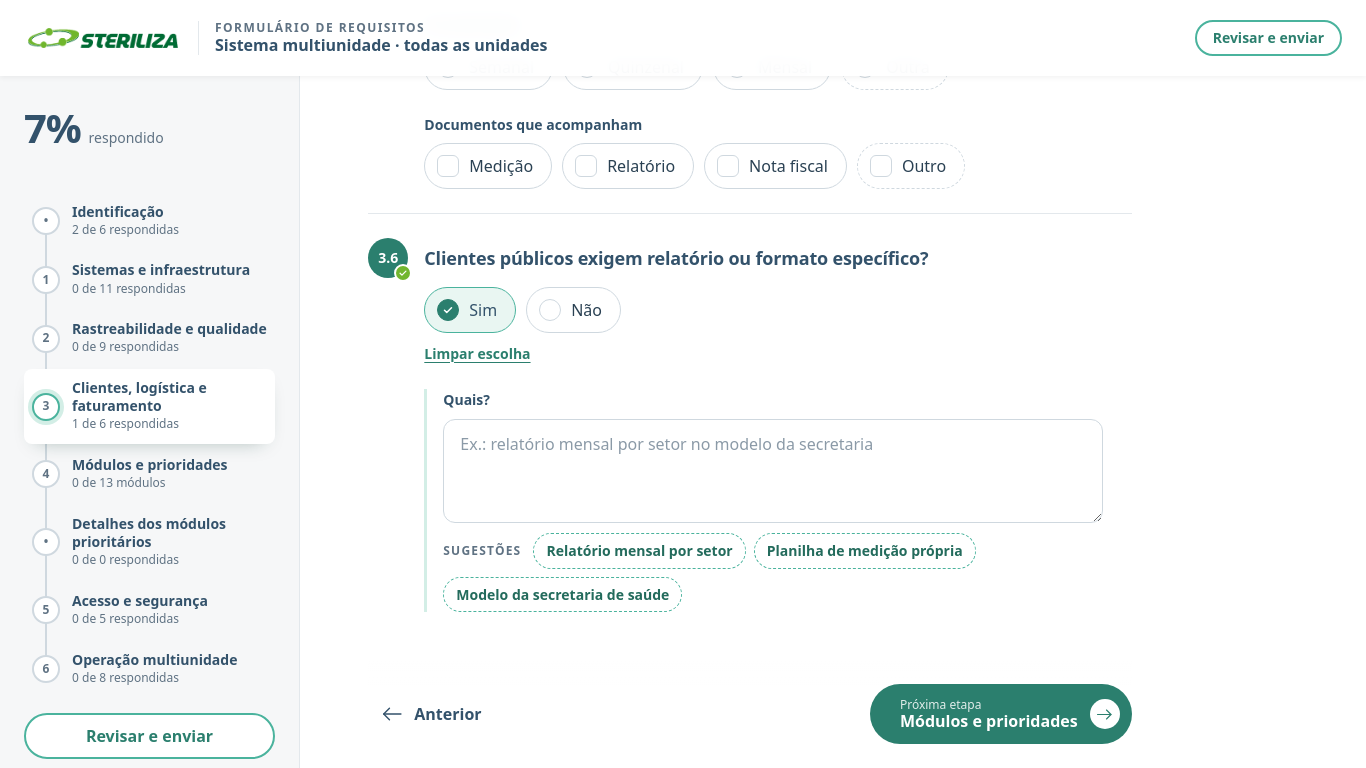
Test case: chips de sugestão › em texto de várias linhas, cada chip entra e sai como uma linha
(page scrolled)
Click the button "Relatório mensal por setor": (640, 551) [533,533,746,569]
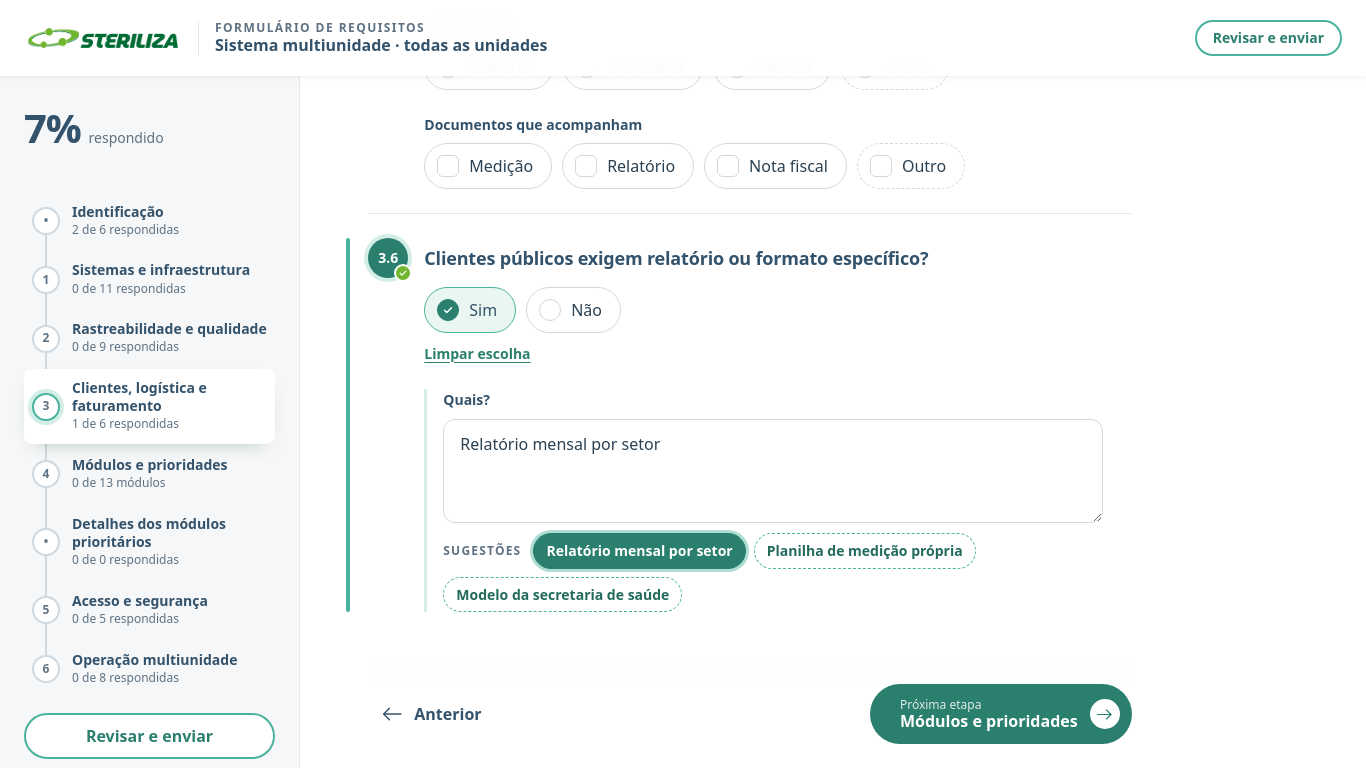
Click the button "Planilha de medição própria": (865, 551) [754,533,976,569]
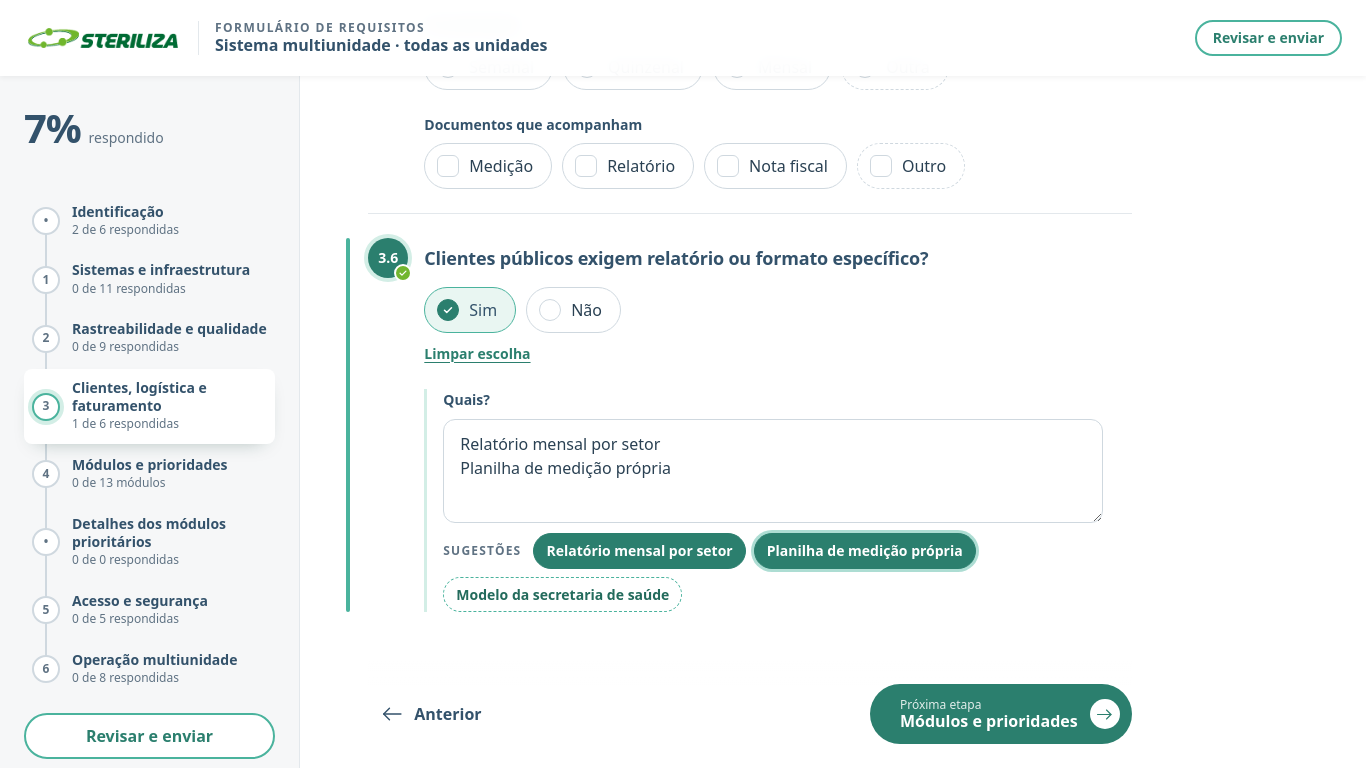
expect the button "Planilha de medição própria" is pressed: met, box [754,533,976,569]
Click the button "Relatório mensal por setor": (640, 551) [533,533,746,569]
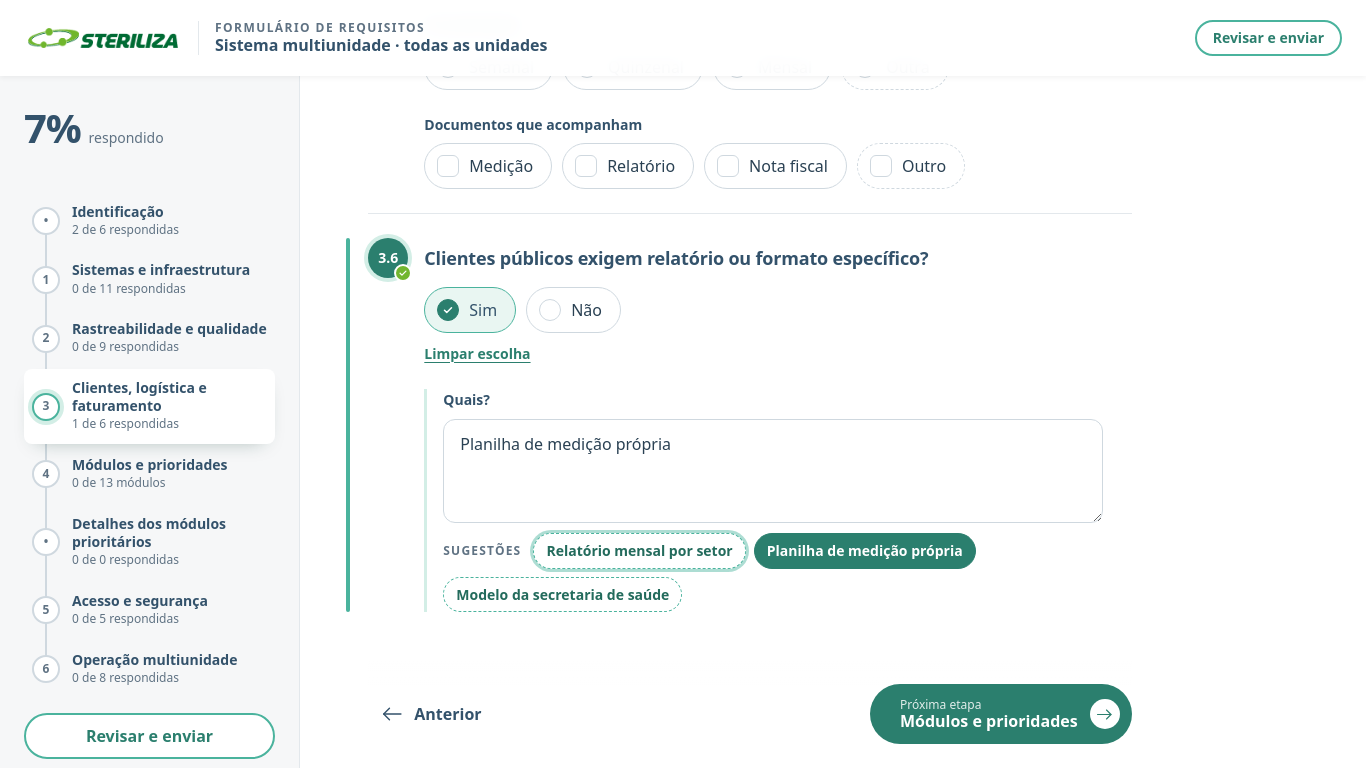
expect the text box holds "Planilha de medição própria": met, box [443,419,1103,523]
